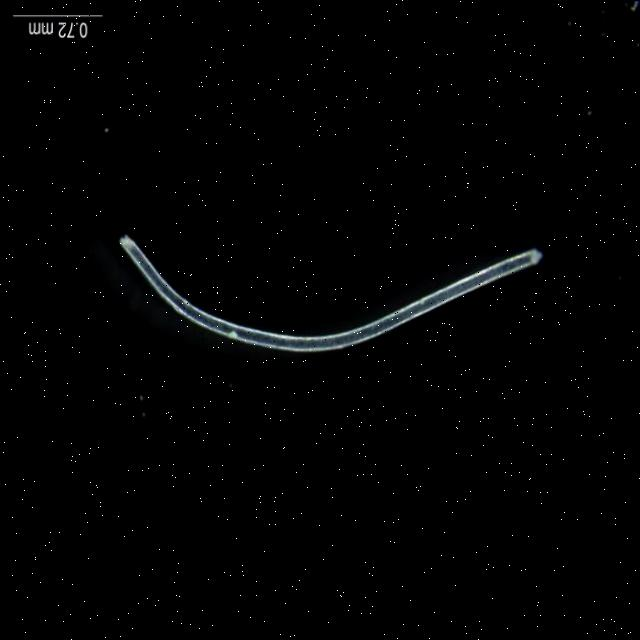Fibre: (114, 218, 544, 352)
